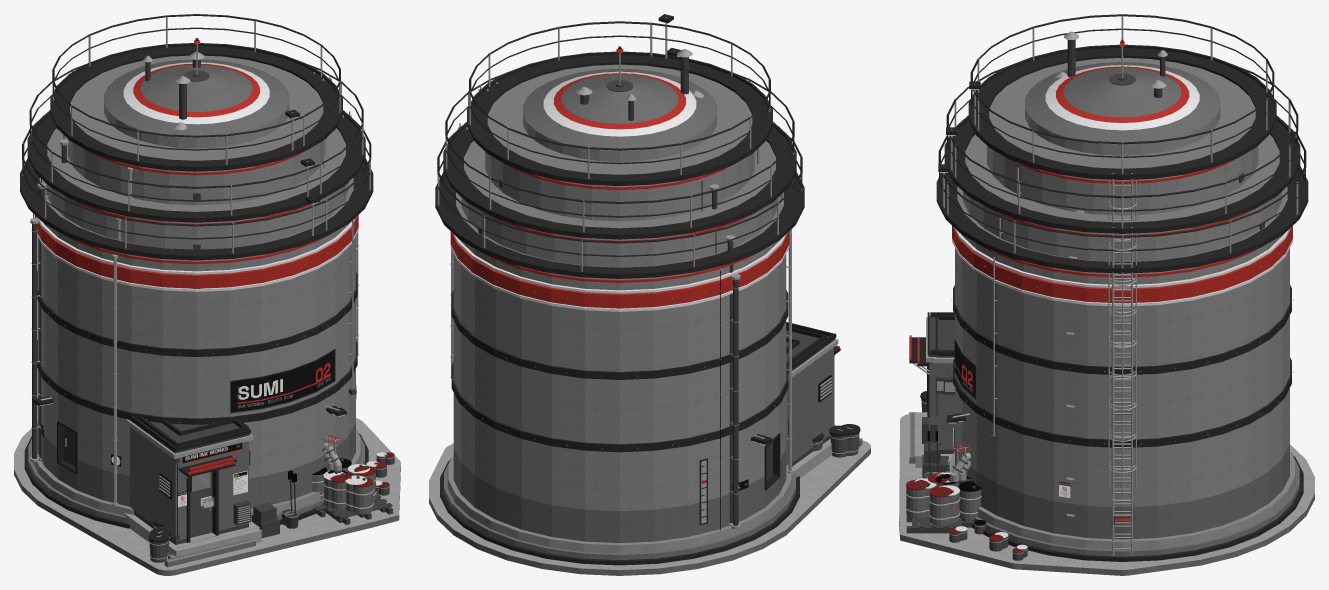
The model's file is silo-Dmj-isPu.glb.
The picture shows the model from 3 angles, left to right: view 1: azimuth 30°, elevation 25°; view 2: azimuth 150°, elevation 25°; view 3: azimuth 270°, elevation 25°; orthographic projection. The views are drawn at different scales.
Visible parts, largest first — view 1: body_62, body_61, body_60, metal_62, metal_61, metal_60, glow_62; view 2: body_62, body_61, body_60, metal_62, metal_61, metal_60; view 3: body_62, body_61, body_60, metal_62, metal_60, metal_61, glow_62.
Boxes of the visible parts, left/top/right/bottom form: body_62: left=14, top=158, right=400, bottom=575; body_61: left=50, top=38, right=368, bottom=545; body_60: left=21, top=110, right=393, bottom=565; metal_62: left=22, top=113, right=394, bottom=562; metal_61: left=52, top=14, right=343, bottom=528; metal_60: left=29, top=64, right=385, bottom=557; glow_62: left=39, top=202, right=344, bottom=507; body_62: left=429, top=172, right=870, bottom=575; body_61: left=467, top=46, right=832, bottom=485; body_60: left=437, top=122, right=854, bottom=566; metal_62: left=437, top=125, right=862, bottom=531; metal_61: left=469, top=14, right=823, bottom=444; metal_60: left=445, top=48, right=850, bottom=526; body_62: left=899, top=165, right=1314, bottom=575; body_61: left=930, top=40, right=1276, bottom=534; body_60: left=907, top=115, right=1306, bottom=566; metal_62: left=905, top=119, right=1306, bottom=555; metal_60: left=917, top=61, right=1298, bottom=551; metal_61: left=947, top=14, right=1274, bottom=527; glow_62: left=939, top=172, right=1070, bottom=497.
Bounding box in the file's own units: 9.84 × 12.4 × 10.37.
7 materials, 7 textured.
